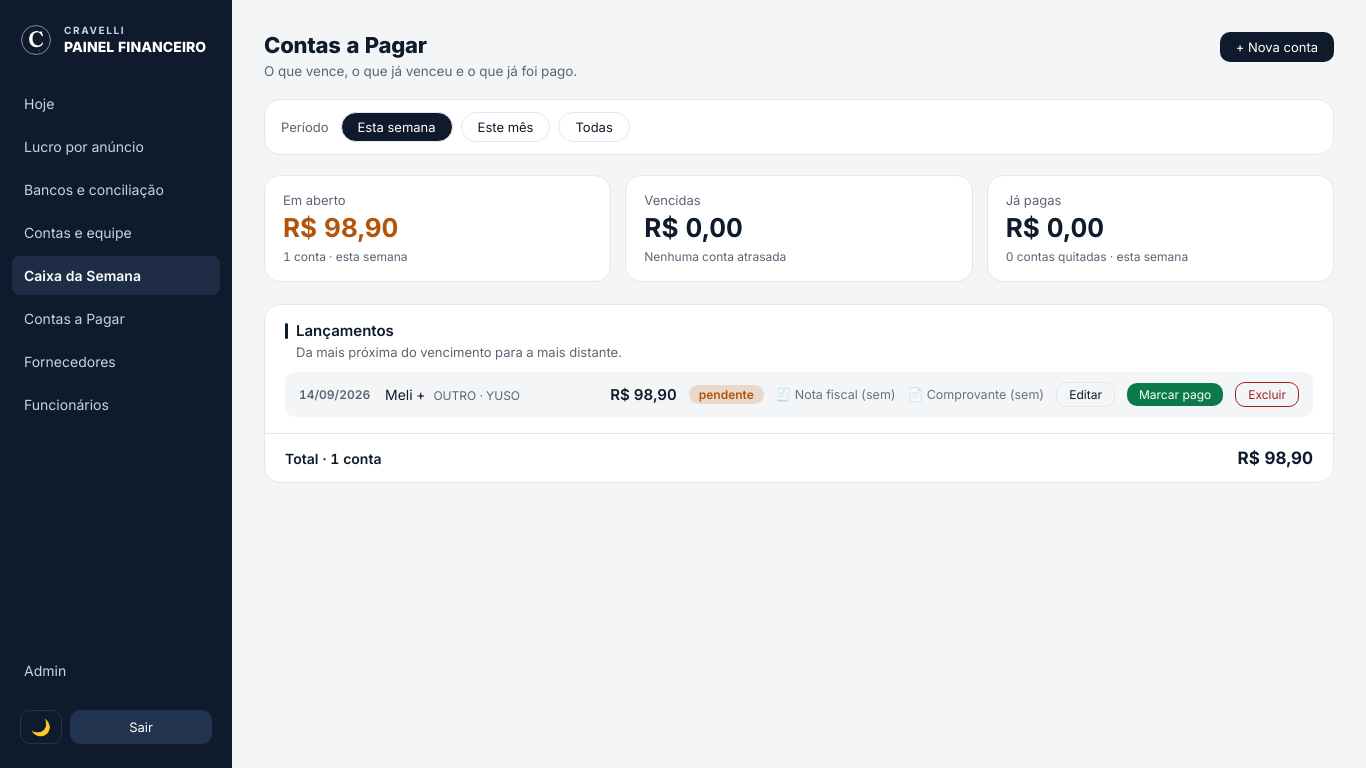
Contas a Pagar — editar conta › mostra o erro do servidor e mantém o formulário aberto se não salvar
Click the button "Editar".
click(1086, 395)  # box [1056,382,1115,407]
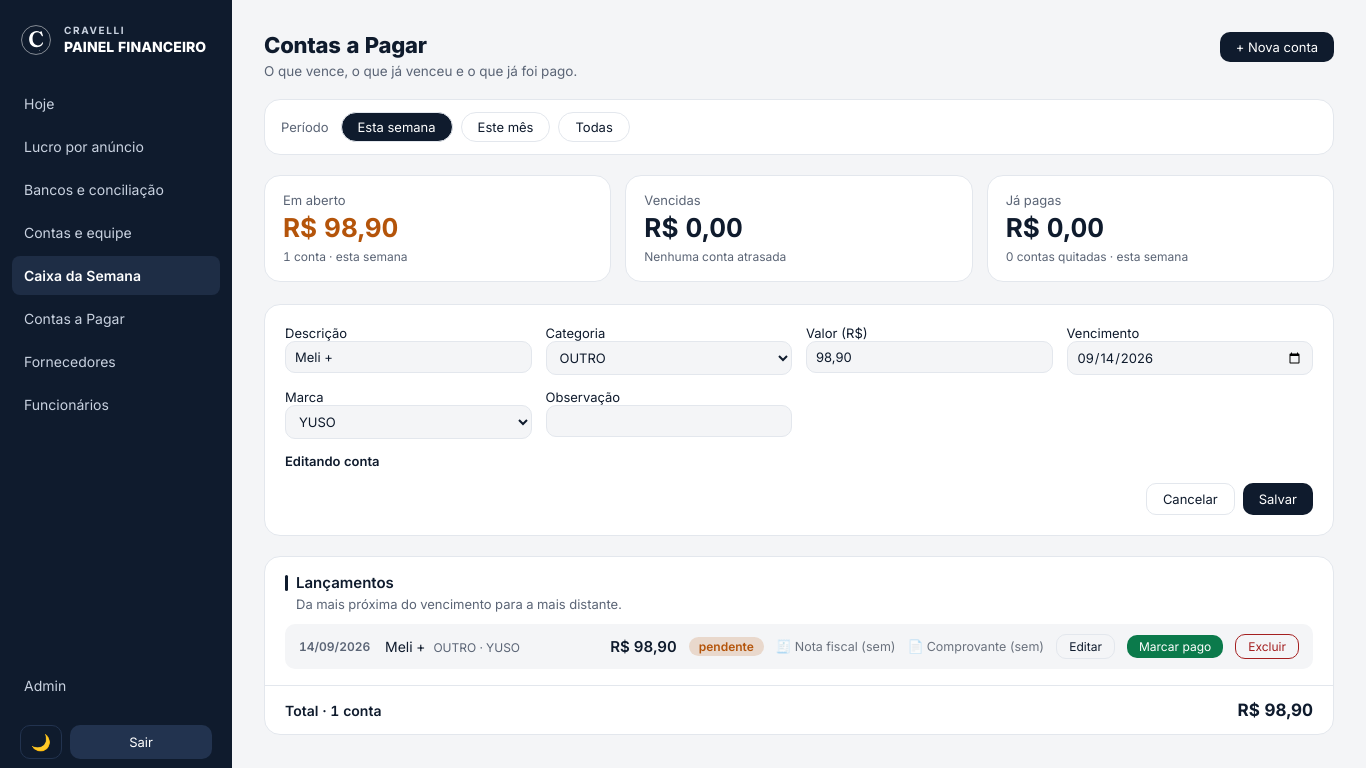
Click the button "Salvar".
click(1278, 499)  # box [1243,483,1313,515]
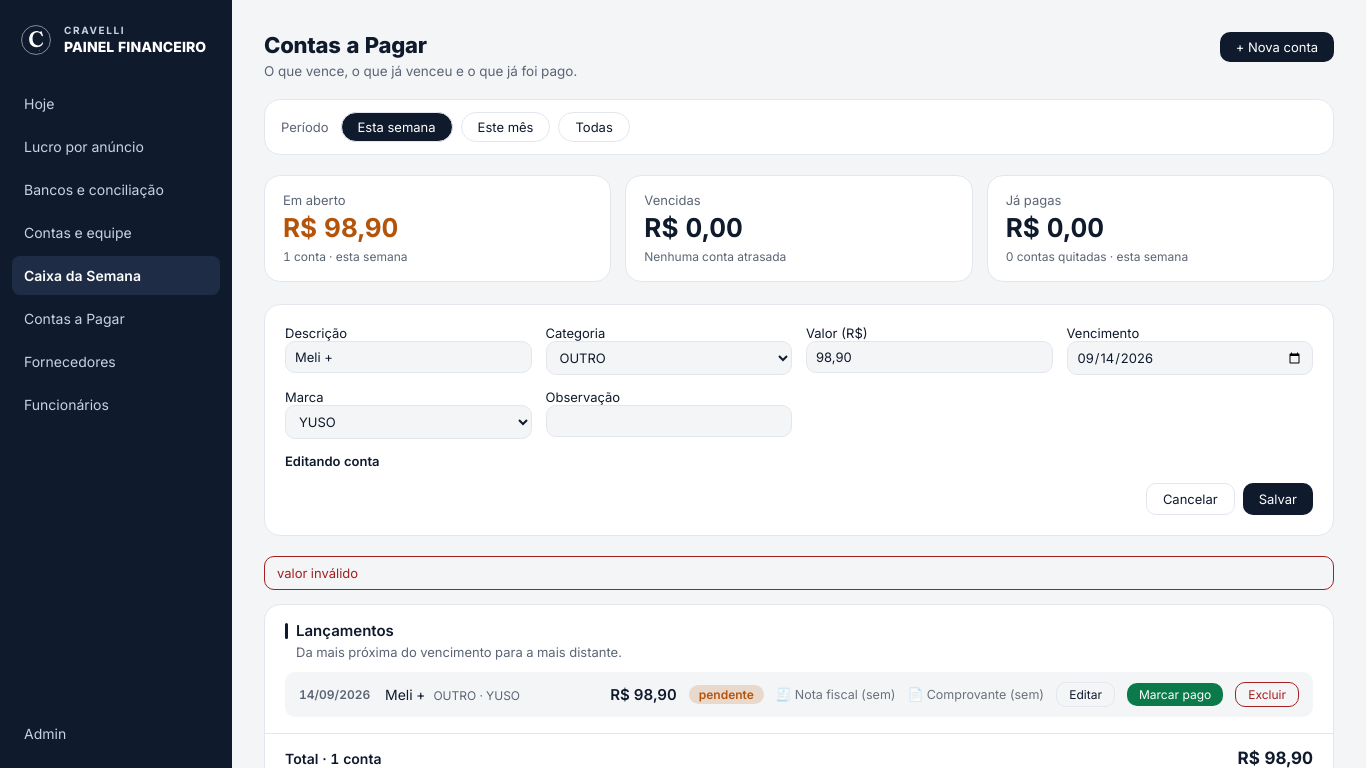
Expected: the button "Salvar" is shown, [1243,483,1313,515]
Expected: the text "valor inválido" is shown, [264,556,1334,590]
